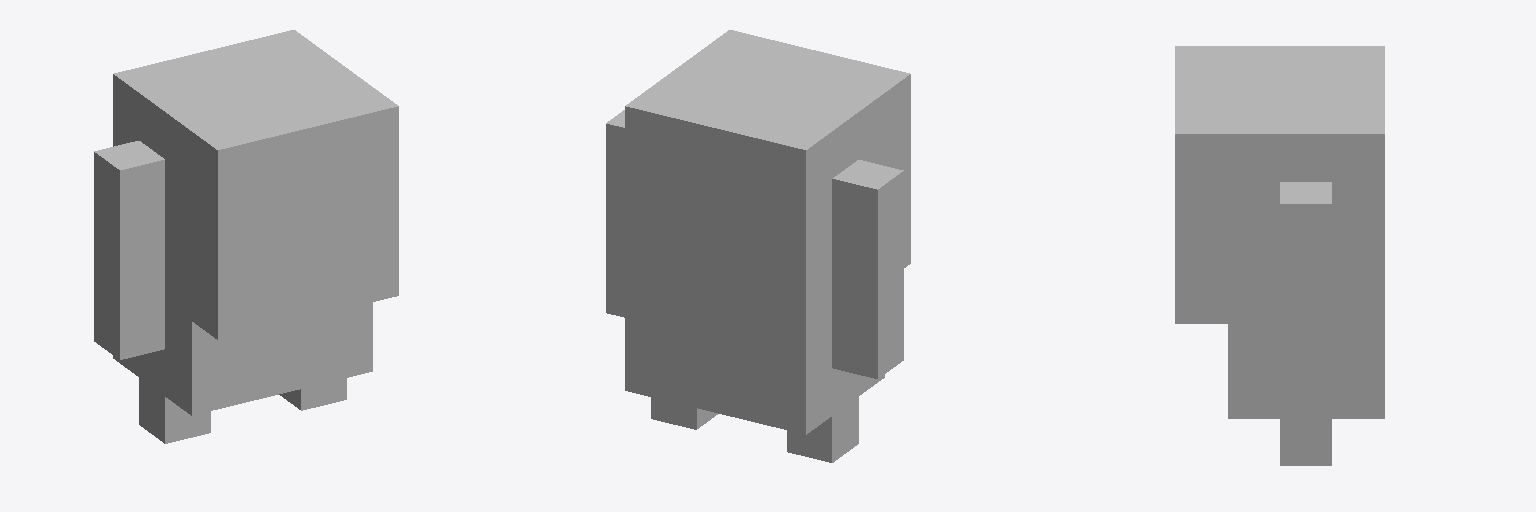
File: Body 4.obj
The picture shows the model from 3 angles: view 1: azimuth 30°, elevation 25°; view 2: azimuth 150°, elevation 25°; view 3: azimuth 270°, elevation 25°; orthographic projection.
Bounding box in the file's own units: 6 × 7 × 4.